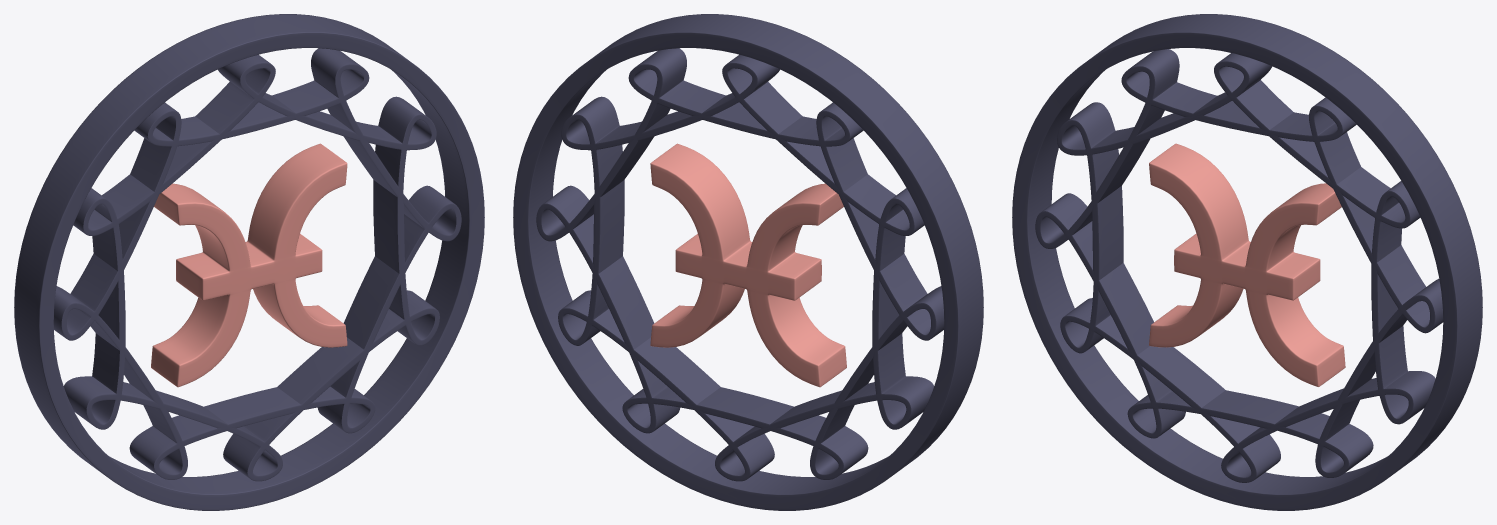
File: badrpost-sign-4847.glb
3 renders of one model, left to right at view 1: azimuth 30°, elevation 25°; view 2: azimuth 150°, elevation 25°; view 3: azimuth 330°, elevation 25°, orthographic.
Visible parts, largest first — view 1: Embellishments frame, circle frame, Plane_ 12 Pisces The Fishes_sign; view 2: Embellishments frame, circle frame, Plane_ 12 Pisces The Fishes_sign; view 3: Embellishments frame, circle frame, Plane_ 12 Pisces The Fishes_sign.
Boxes of the visible parts, x1=… form: Embellishments frame: x1=53, y1=48, x2=461, y2=481; circle frame: x1=14, y1=14, x2=484, y2=510; Plane_ 12 Pisces The Fishes_sign: x1=151, y1=143, x2=347, y2=387; Embellishments frame: x1=536, y1=48, x2=944, y2=481; circle frame: x1=513, y1=14, x2=983, y2=510; Plane_ 12 Pisces The Fishes_sign: x1=650, y1=143, x2=846, y2=387; Embellishments frame: x1=1035, y1=49, x2=1443, y2=482; circle frame: x1=1012, y1=14, x2=1482, y2=510; Plane_ 12 Pisces The Fishes_sign: x1=1149, y1=143, x2=1345, y2=386.
Size of the model in its own units: 0.2631 by 0.263 by 0.028.
